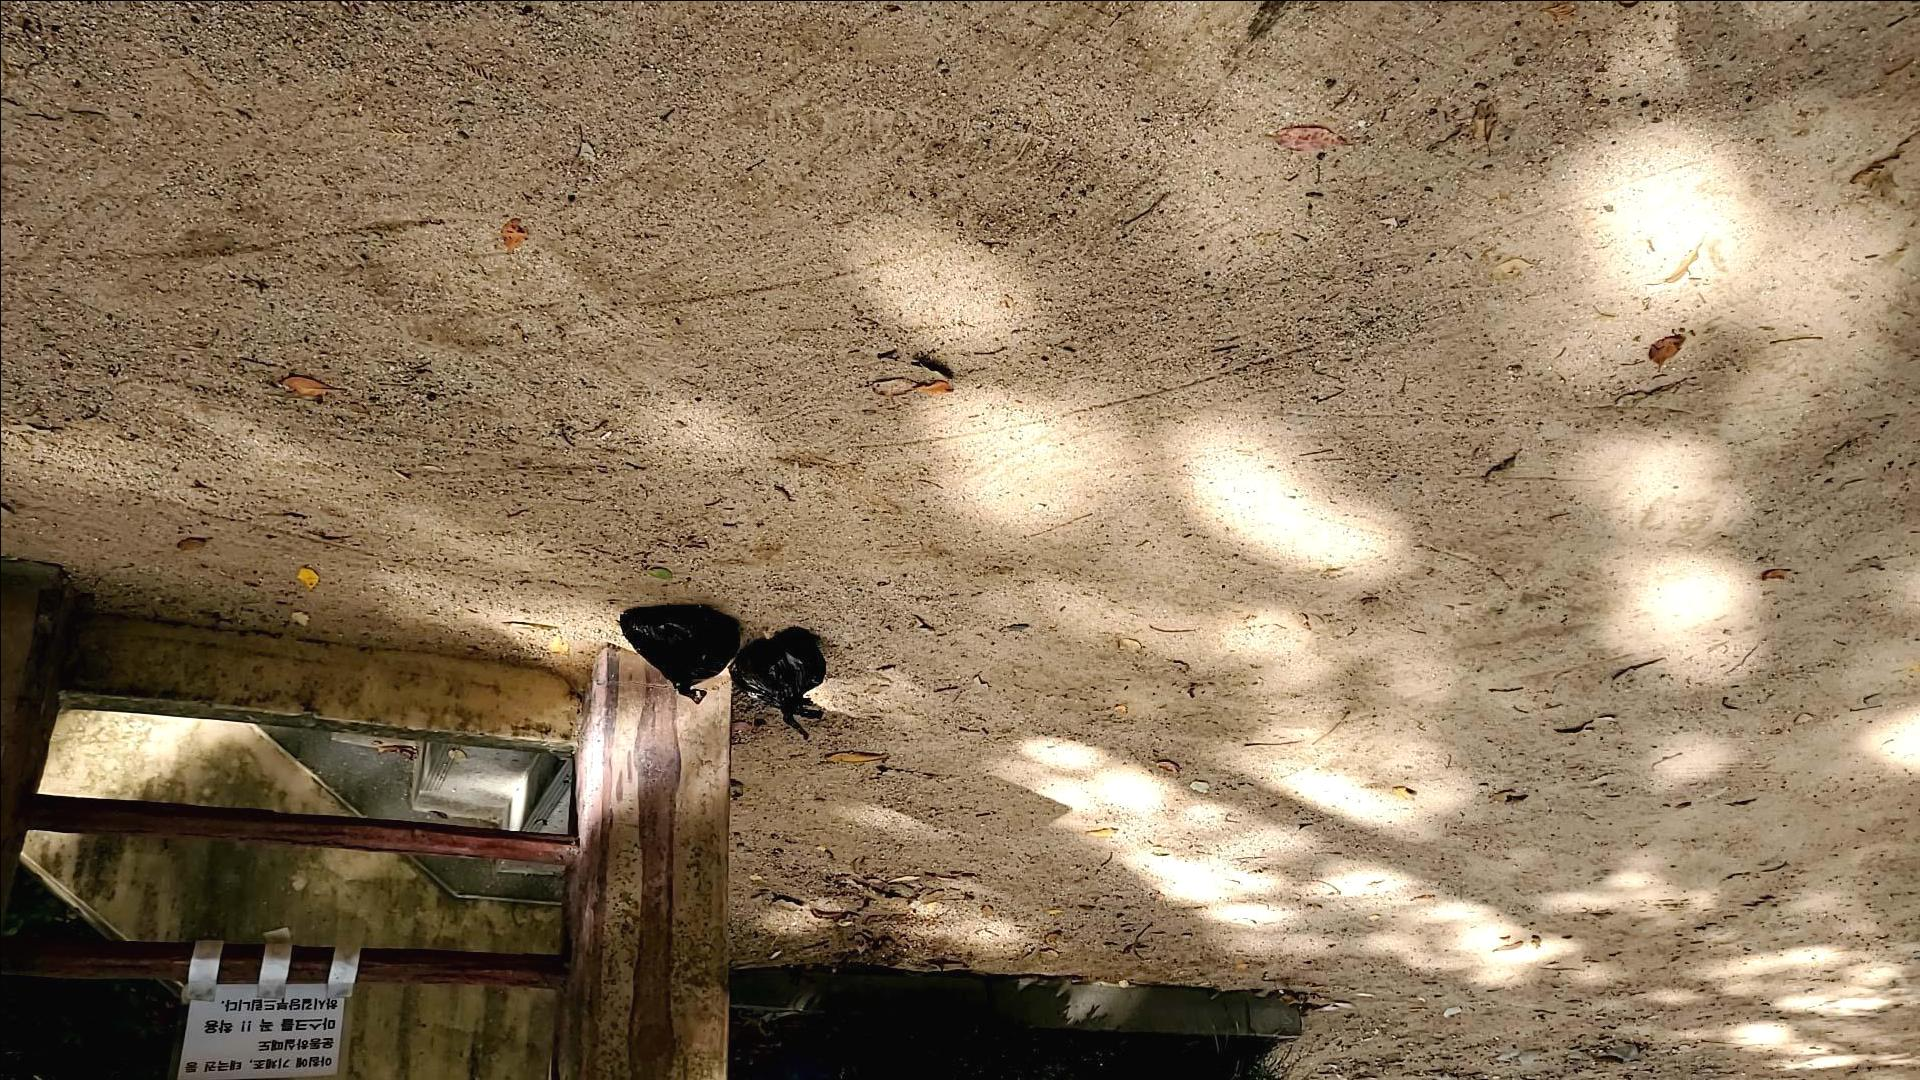black_bag: (615, 597, 752, 705), (725, 625, 835, 744)
